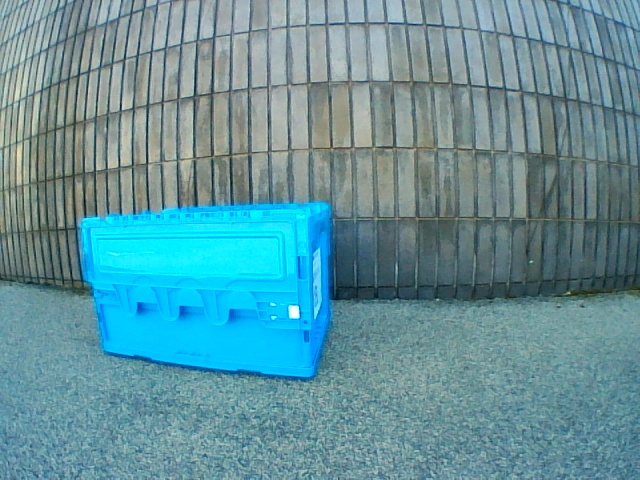blue_box: (81, 202, 329, 378)
tag: (313, 256, 320, 305)
